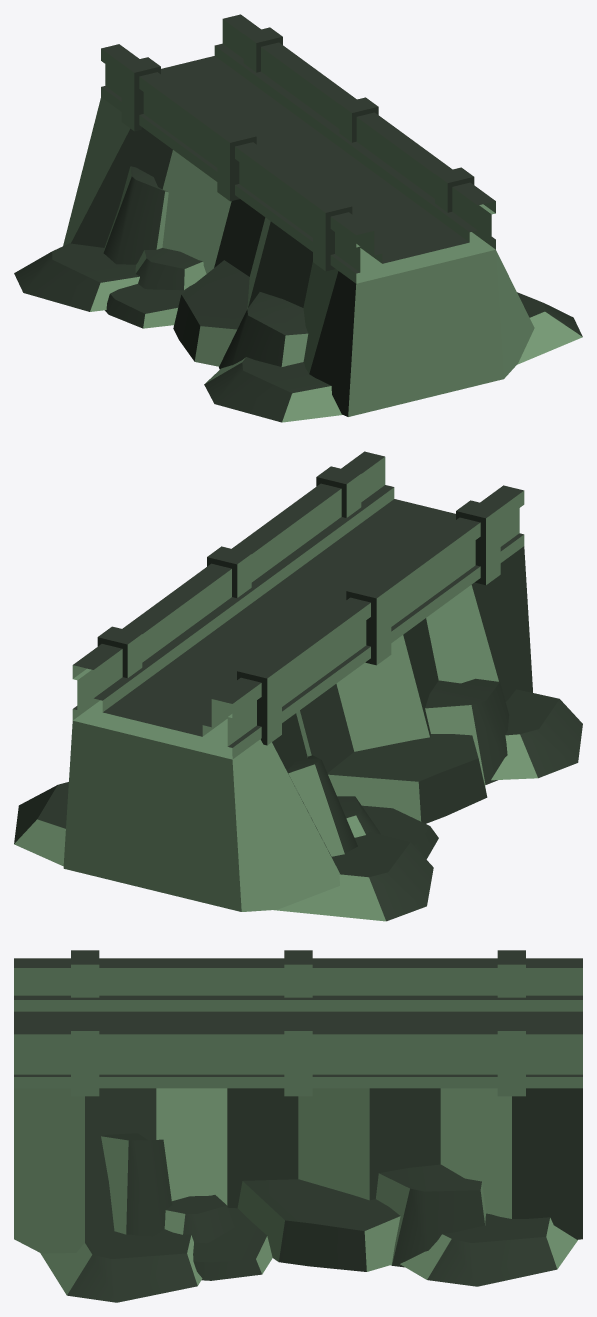
Rendered from SF_Bld_Undead_Castle_Bridge_01.glb.
The picture shows the model from 3 angles, top to bottom: view 1: azimuth 30°, elevation 25°; view 2: azimuth 150°, elevation 25°; view 3: azimuth 270°, elevation 25°; orthographic projection. The views are drawn at different scales.
Visible parts, largest first — view 1: SF_Bld_Undead_Castle_Bridge_01; view 2: SF_Bld_Undead_Castle_Bridge_01; view 3: SF_Bld_Undead_Castle_Bridge_01.
Boxes of the visible parts, x1=… form: SF_Bld_Undead_Castle_Bridge_01: x1=14, y1=14, x2=582, y2=422; SF_Bld_Undead_Castle_Bridge_01: x1=14, y1=451, x2=582, y2=921; SF_Bld_Undead_Castle_Bridge_01: x1=14, y1=950, x2=582, y2=1302.
Size of the model in its own units: 0.1754 by 0.081 by 0.2.
Materials: 1 (1 with a texture image).
